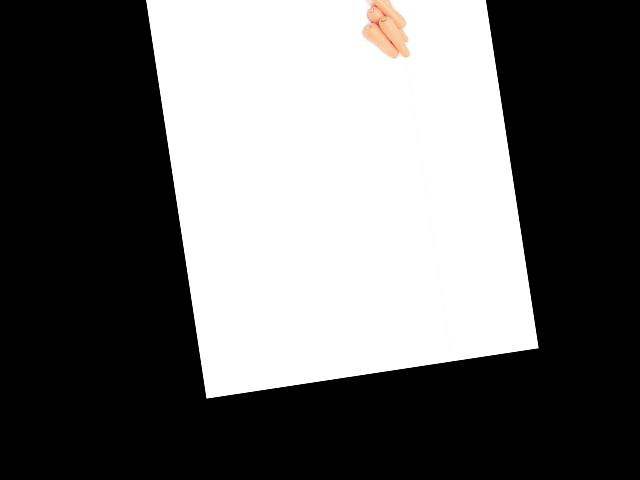carrot: (355, 14, 400, 65)
